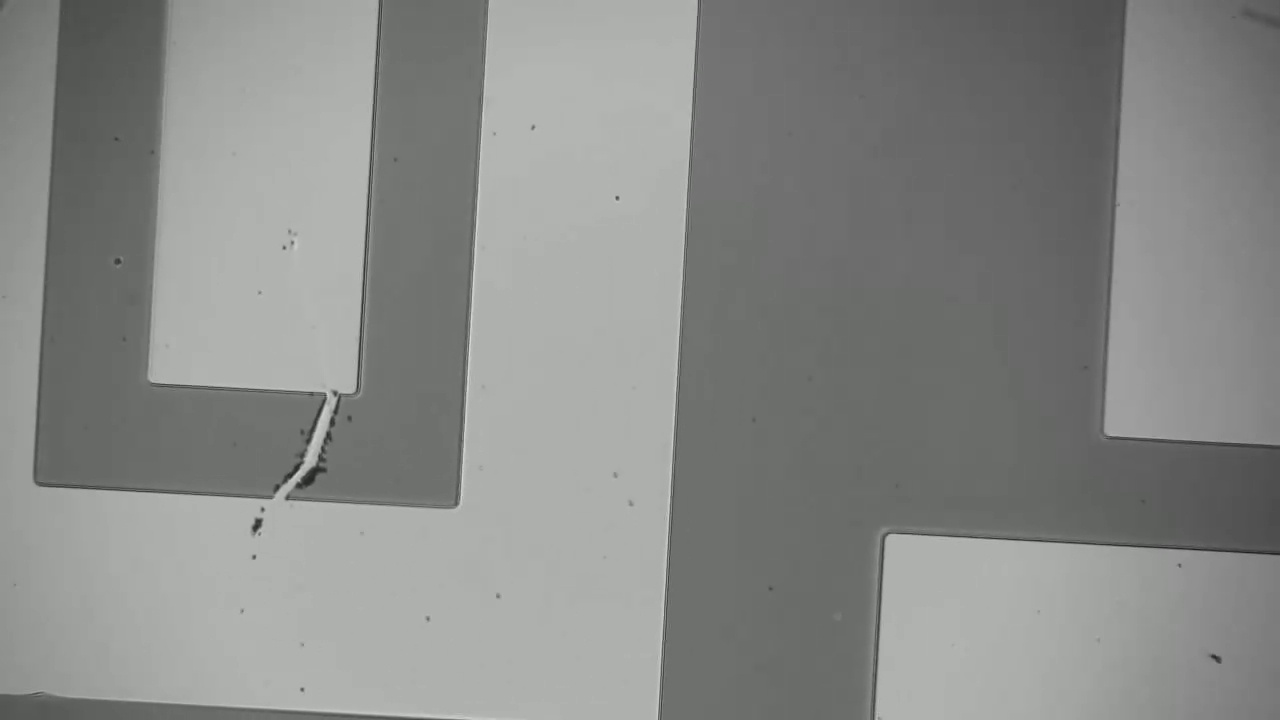Short_circuit: (244, 382, 354, 526)
